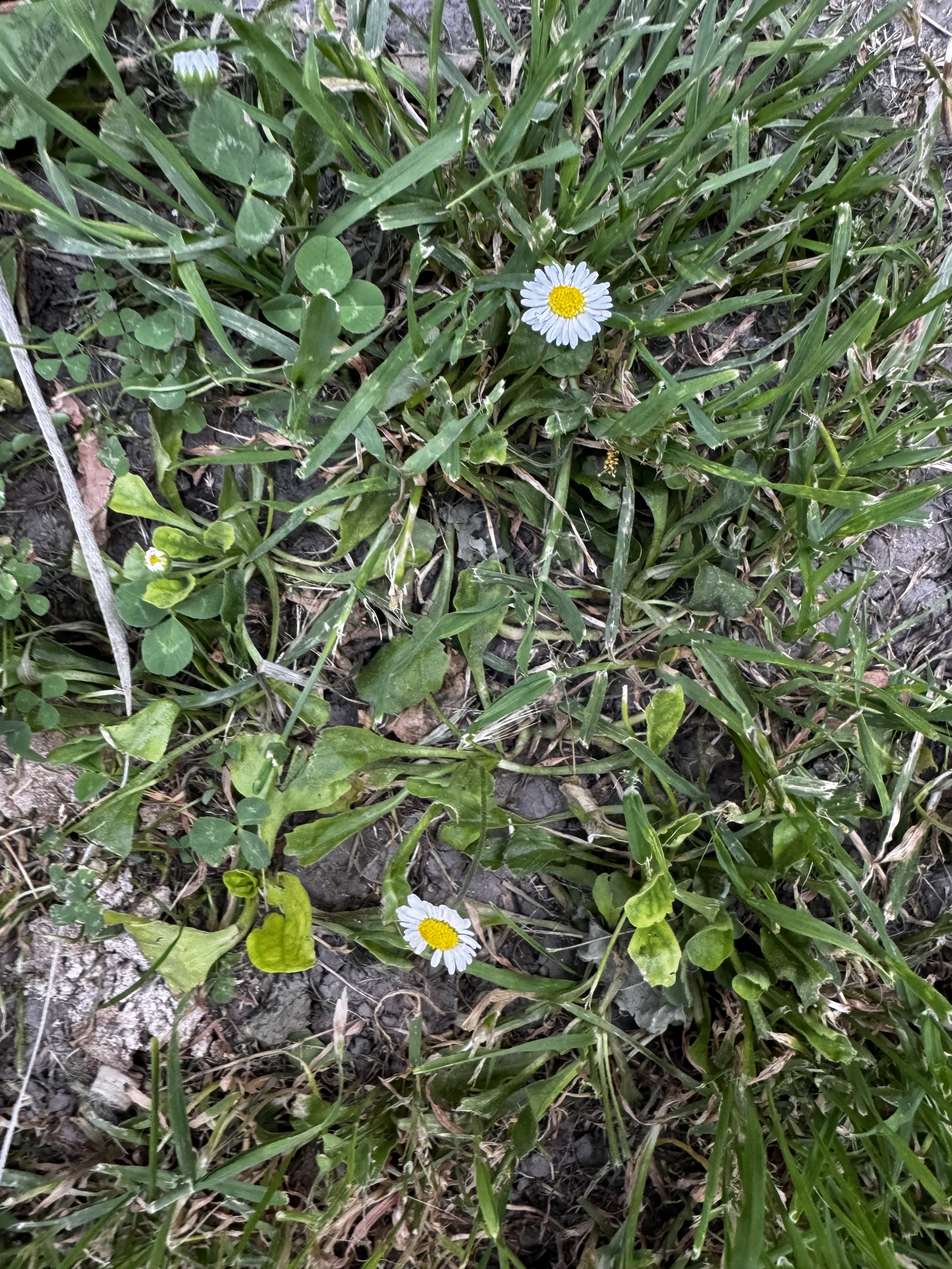daisy: (506, 260, 624, 354), (387, 891, 488, 988)
